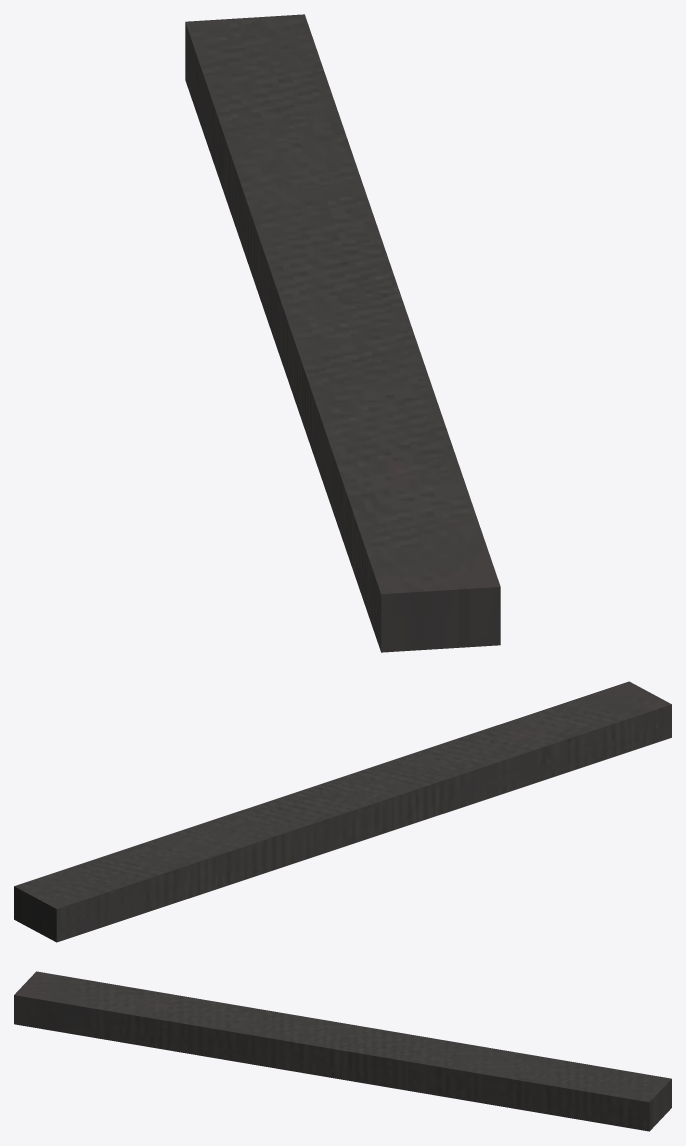
File: ladder_support__side_bar_1.glb
3 renders of one model, top to bottom at view 1: azimuth 30°, elevation 25°; view 2: azimuth 150°, elevation 25°; view 3: azimuth 270°, elevation 25°, orthographic. The views are drawn at different scales.
Visible parts, largest first — view 1: world; view 2: world; view 3: world.
Part boxes in pixels (bbox=[...]): world: bbox=[185, 14, 500, 652]; world: bbox=[14, 681, 671, 942]; world: bbox=[14, 971, 671, 1131].
Bounding box in the file's own units: 0.154 × 0.016 × 0.3269.
1 material, 1 textured.
